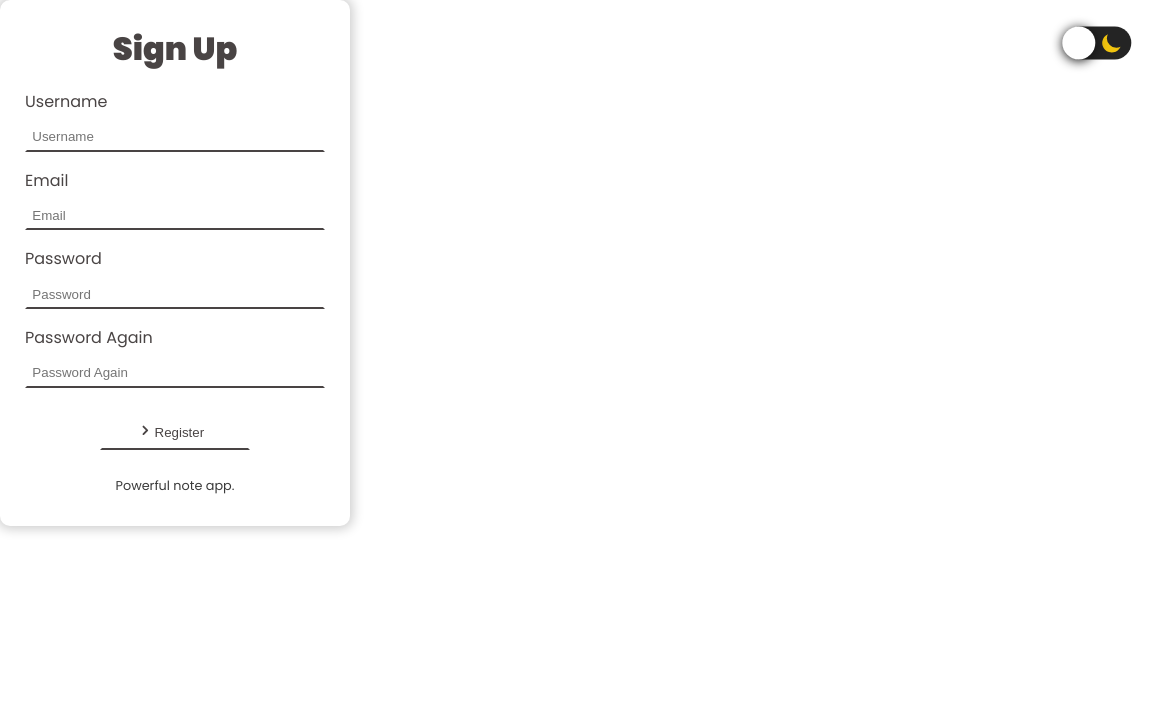
SingUp Form › Password Valid Check › Validation Check for short Password
Type "a" into the password field labelled "Password" at (175, 294), box [25, 279, 325, 309]
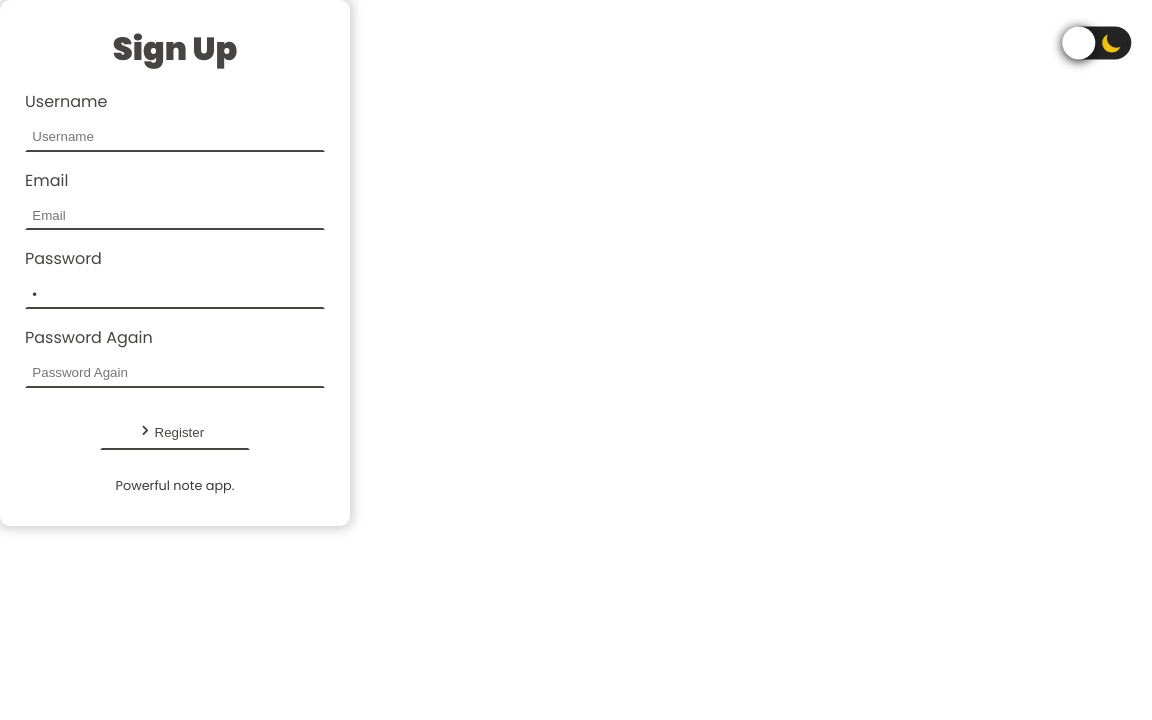
Submit the form from the button, box [100, 414, 250, 450]
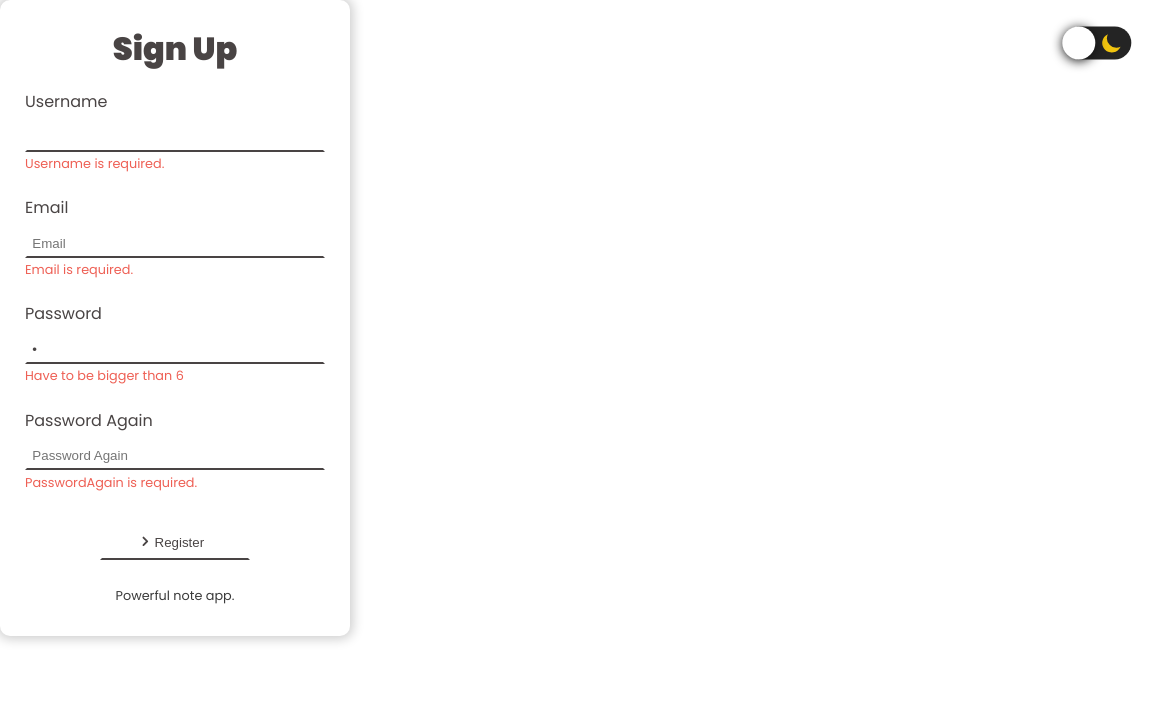
expect the text "Have to be bigger than 6" is shown: met, box [25, 367, 184, 384]
